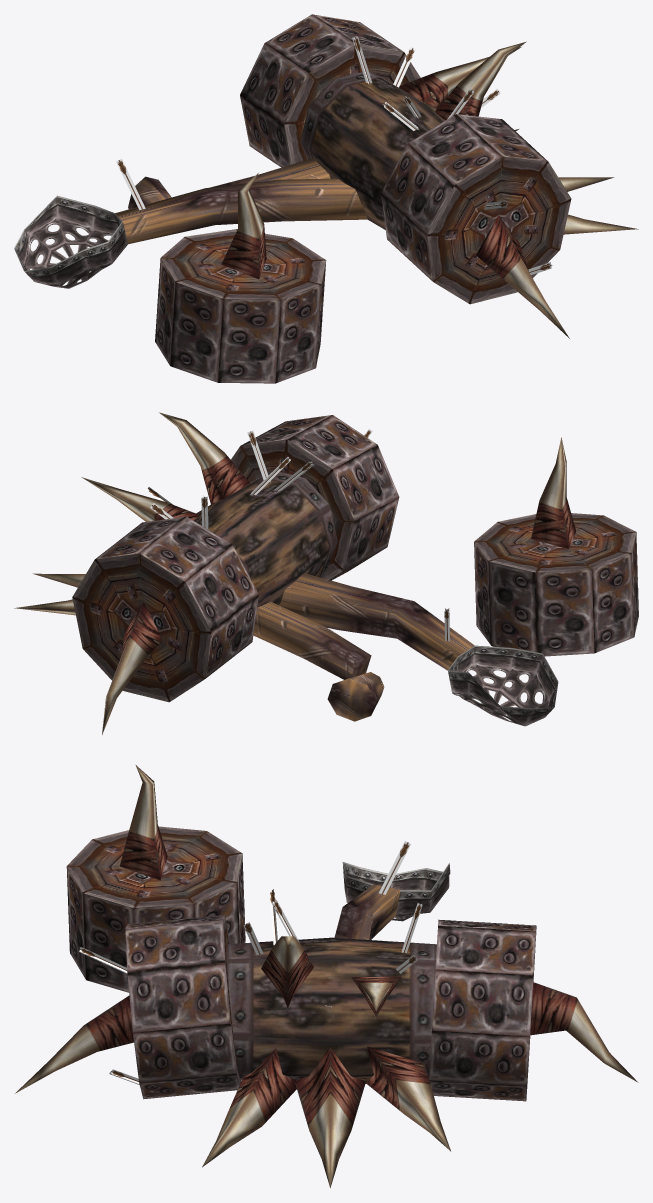
Rendered from ruinedcatapult.obj.
The picture shows the model from 3 angles, top to bottom: view 1: azimuth 30°, elevation 25°; view 2: azimuth 150°, elevation 25°; view 3: azimuth 270°, elevation 25°; orthographic projection. The views are drawn at different scales.
Visible parts, largest first — view 1: Geoset2, Geoset3, Geoset4, Geoset1, Geoset0, Geoset5; view 2: Geoset2, Geoset3, Geoset4, Geoset0, Geoset1, Geoset5; view 3: Geoset2, Geoset4, Geoset1, Geoset3, Geoset0, Geoset5.
Part boxes in pixels (x1=…): Geoset2: x1=155, y1=14, x2=547, y2=383; Geoset3: x1=161, y1=45, x2=571, y2=304; Geoset4: x1=14, y1=41, x2=638, y2=338; Geoset1: x1=300, y1=71, x2=444, y2=229; Geoset0: x1=115, y1=158, x2=367, y2=244; Geoset5: x1=116, y1=36, x2=552, y2=274; Geoset2: x1=95, y1=415, x2=638, y2=678; Geoset3: x1=72, y1=439, x2=636, y2=702; Geoset4: x1=14, y1=412, x2=576, y2=734; Geoset0: x1=253, y1=573, x2=474, y2=721; Geoset1: x1=194, y1=470, x2=337, y2=607; Geoset5: x1=146, y1=429, x2=449, y2=641; Geoset2: x1=66, y1=853, x2=536, y2=1101; Geoset4: x1=15, y1=765, x2=638, y2=1187; Geoset1: x1=227, y1=937, x2=436, y2=1083; Geoset3: x1=67, y1=826, x2=536, y2=1093; Geoset0: x1=334, y1=884, x2=400, y2=939; Geoset5: x1=79, y1=841, x2=422, y2=1084.
Size of the model in its own units: 9.87 by 3.16 by 8.96.
Materials: 6 (6 with a texture image).
